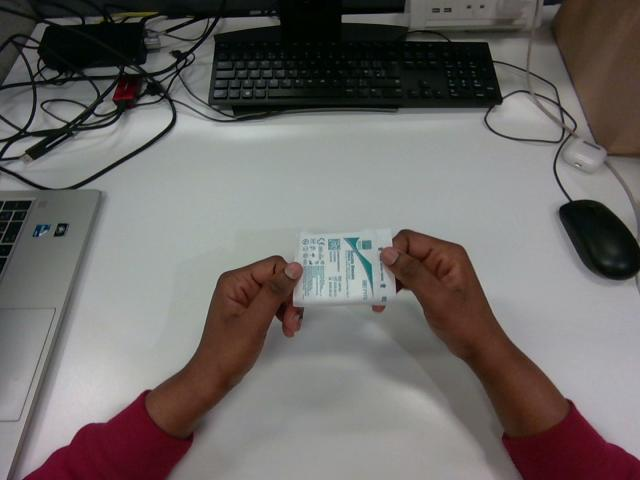gauze: (293, 229, 395, 306)
